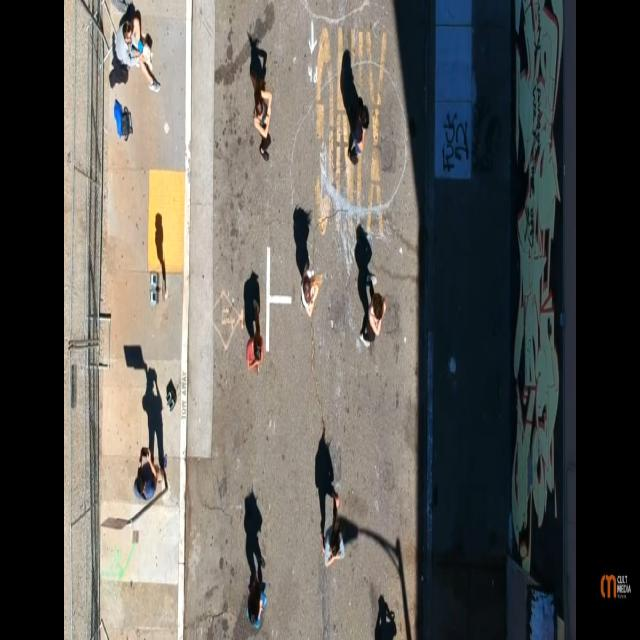humans: (111, 5, 161, 95), (356, 290, 387, 354), (250, 88, 274, 164), (132, 449, 162, 505), (348, 104, 370, 178), (322, 517, 348, 573), (246, 571, 268, 634), (300, 264, 324, 320), (244, 323, 267, 376)
